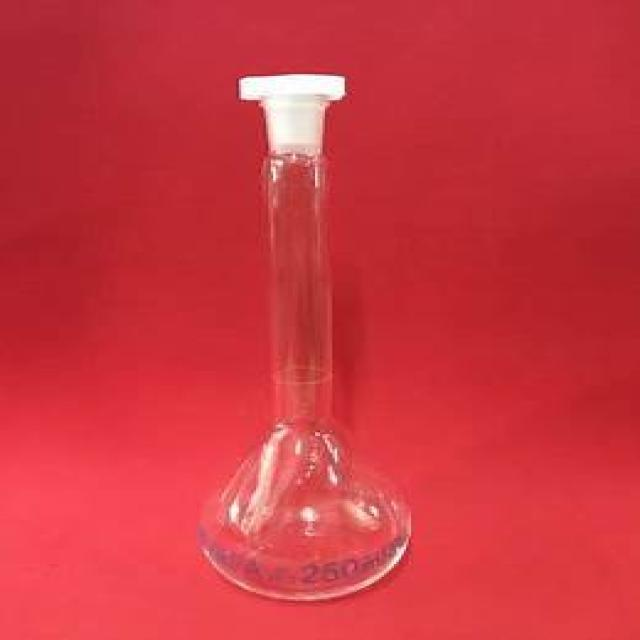Volumetric flask: (200, 62, 414, 602)
